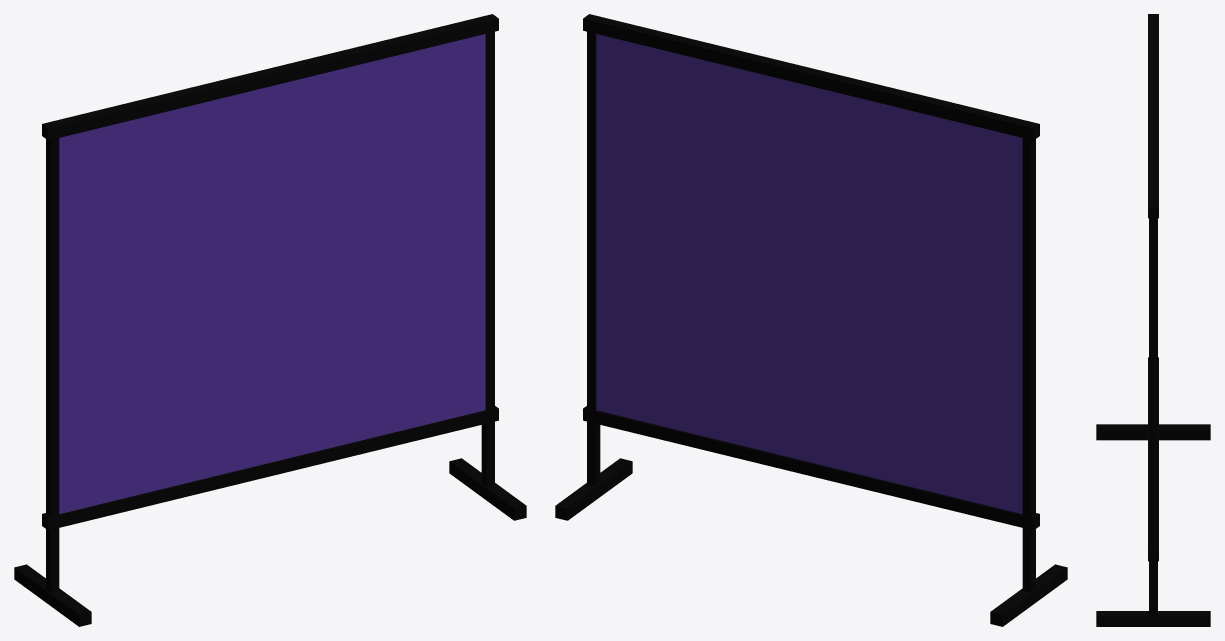
Rendered from separator2.fbx.
3 renders of one model, left to right at view 1: azimuth 30°, elevation 25°; view 2: azimuth 150°, elevation 25°; view 3: azimuth 270°, elevation 25°, orthographic. The views are drawn at different scales.
Visible parts, largest first — view 1: separator2; view 2: separator2; view 3: separator2.
Part boxes in pixels (bbox=[...]): separator2: bbox=[14, 14, 526, 626]; separator2: bbox=[555, 14, 1067, 626]; separator2: bbox=[1096, 14, 1210, 626].
Size of the model in its own units: 166 by 168 by 41.36.
